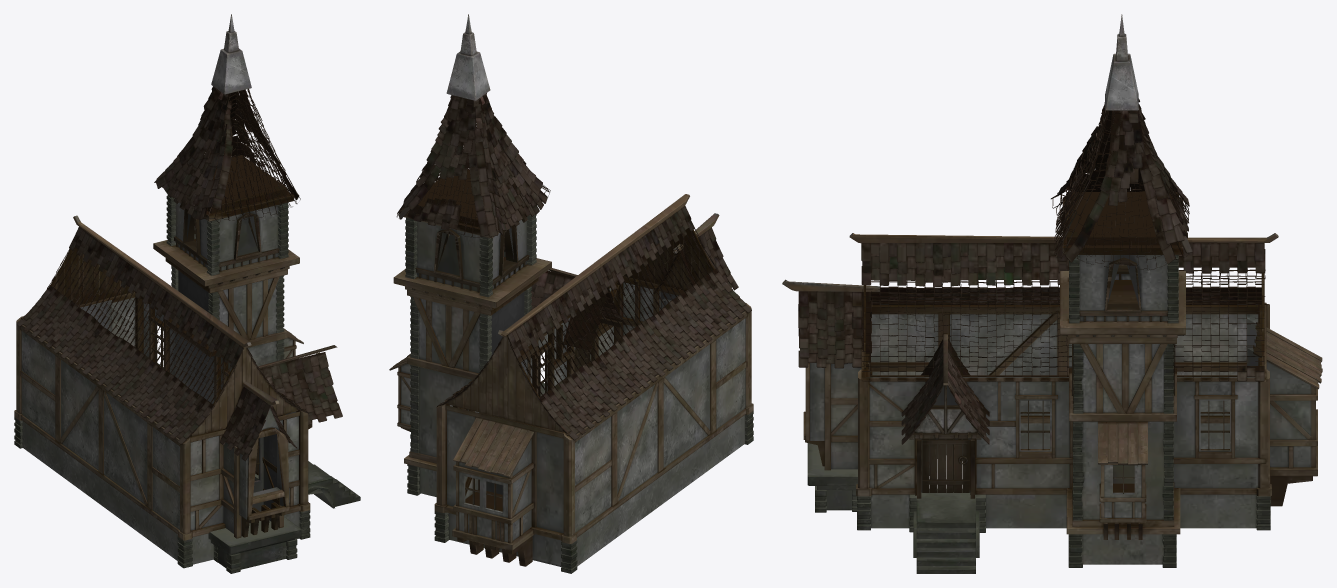
The model's file is chapel.glb.
3 renders of one model, left to right at view 1: azimuth 30°, elevation 25°; view 2: azimuth 150°, elevation 25°; view 3: azimuth 270°, elevation 25°, orthographic. The views are drawn at different scales.
Size of the model in its own units: 6.33 by 12 by 10.99.
Materials: 5 (5 with a texture image).
